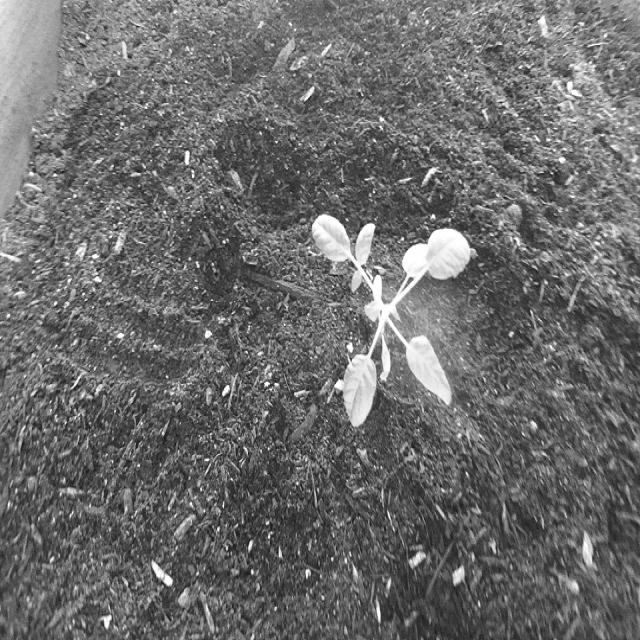Healthy: (309, 206, 475, 441)
